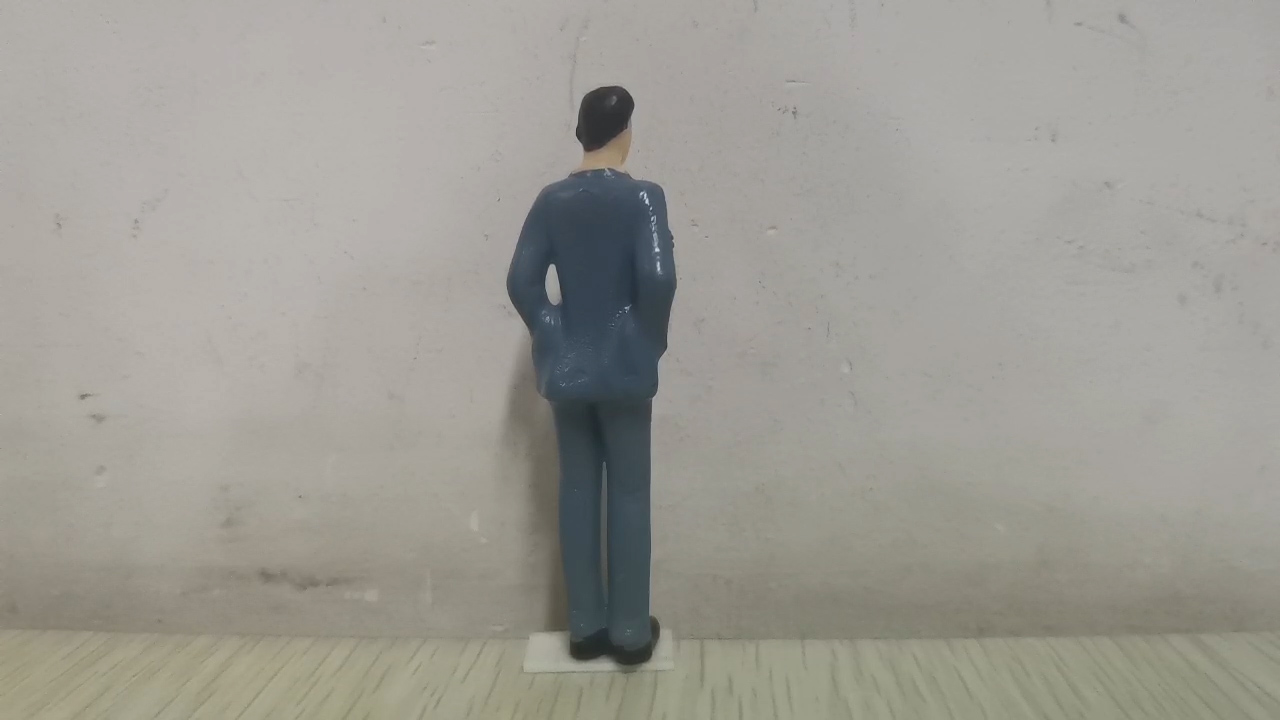person: (505, 84, 681, 666)
